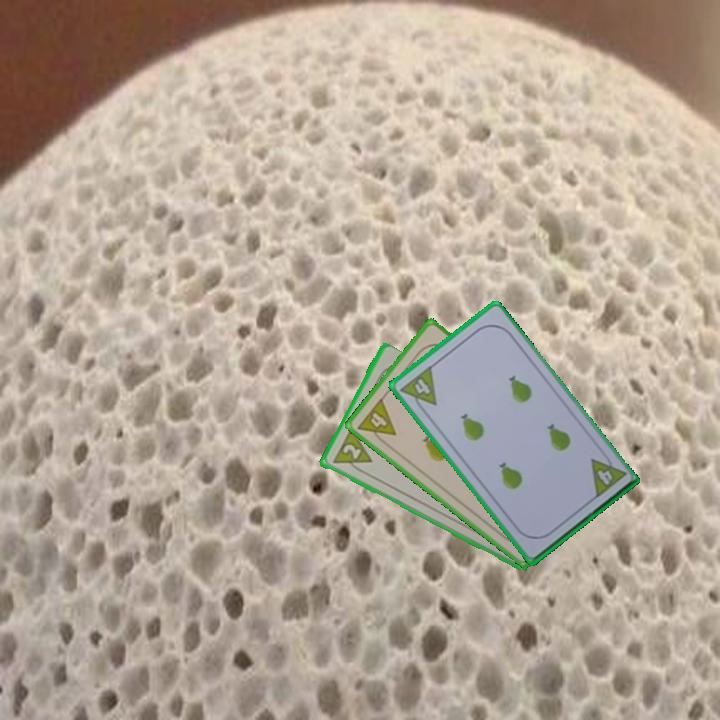2p: (328, 426, 375, 477)
4p: (354, 394, 399, 449), (396, 362, 439, 416), (587, 448, 628, 501)
